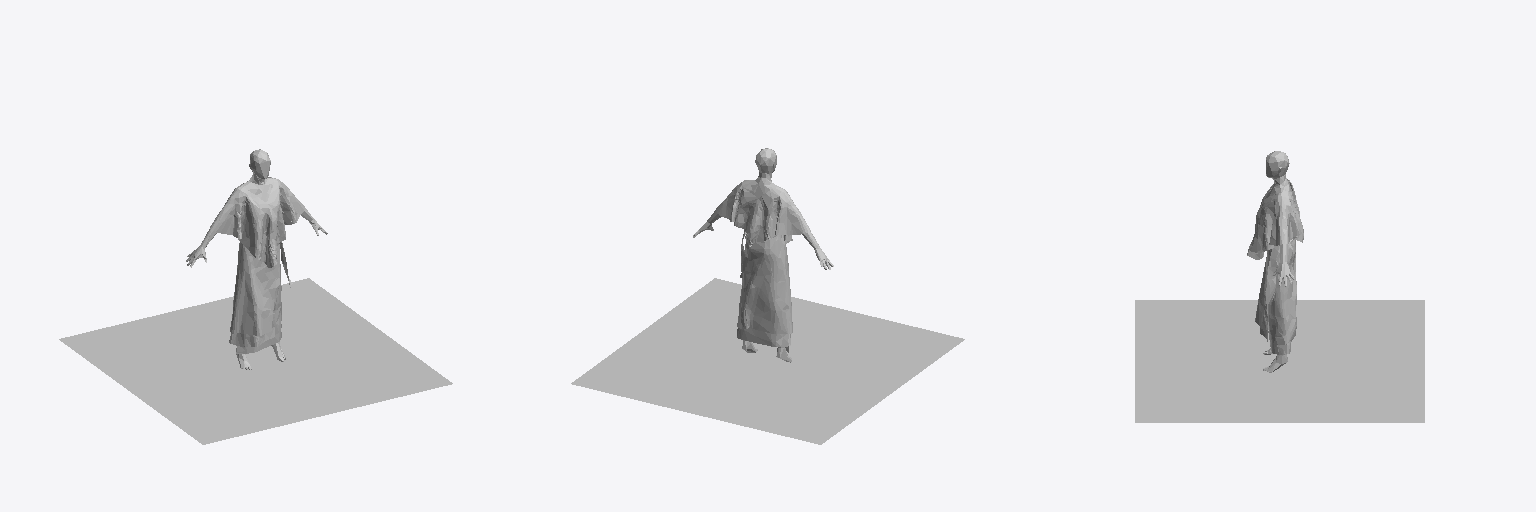
File: wave1.obj
3 renders of one model, left to right at view 1: azimuth 30°, elevation 25°; view 2: azimuth 150°, elevation 25°; view 3: azimuth 270°, elevation 25°, orthographic.
Parts seen in each view (by area): view 1: Plane, TrajeTipico, Maniqui; view 2: Plane, TrajeTipico, Maniqui; view 3: Plane, TrajeTipico, Maniqui.
Part boxes in pixels (x1,y1,x2,y2): Plane: (59, 278, 452, 444); TrajeTipico: (210, 177, 304, 353); Maniqui: (186, 149, 327, 369); Plane: (571, 278, 964, 444); TrajeTipico: (716, 180, 810, 352); Maniqui: (693, 148, 833, 362); Plane: (1135, 300, 1424, 422); TrajeTipico: (1247, 179, 1303, 354); Maniqui: (1263, 151, 1294, 372).
Size of the model in its own units: 235 by 190 by 235.